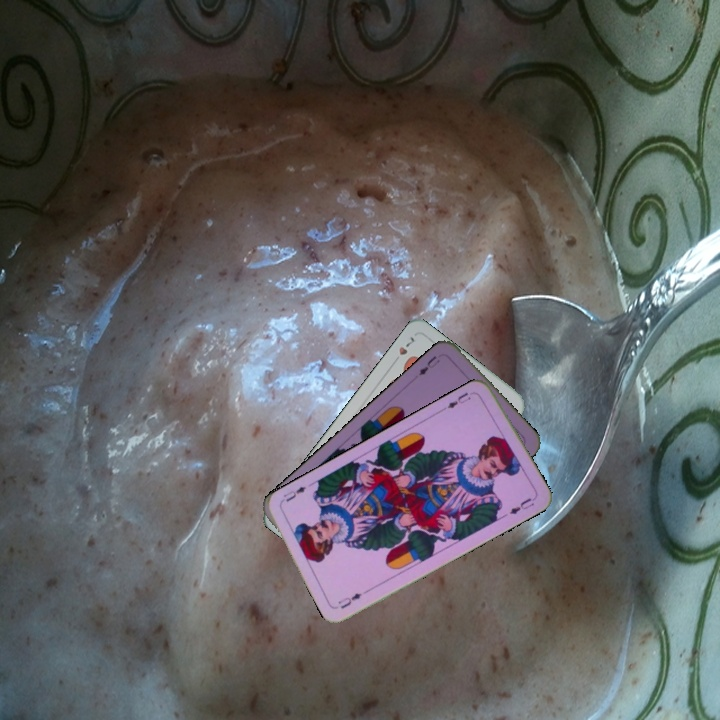EU: (440, 388, 474, 413), (415, 352, 443, 378), (334, 589, 364, 612)
H7: (389, 332, 418, 367)
